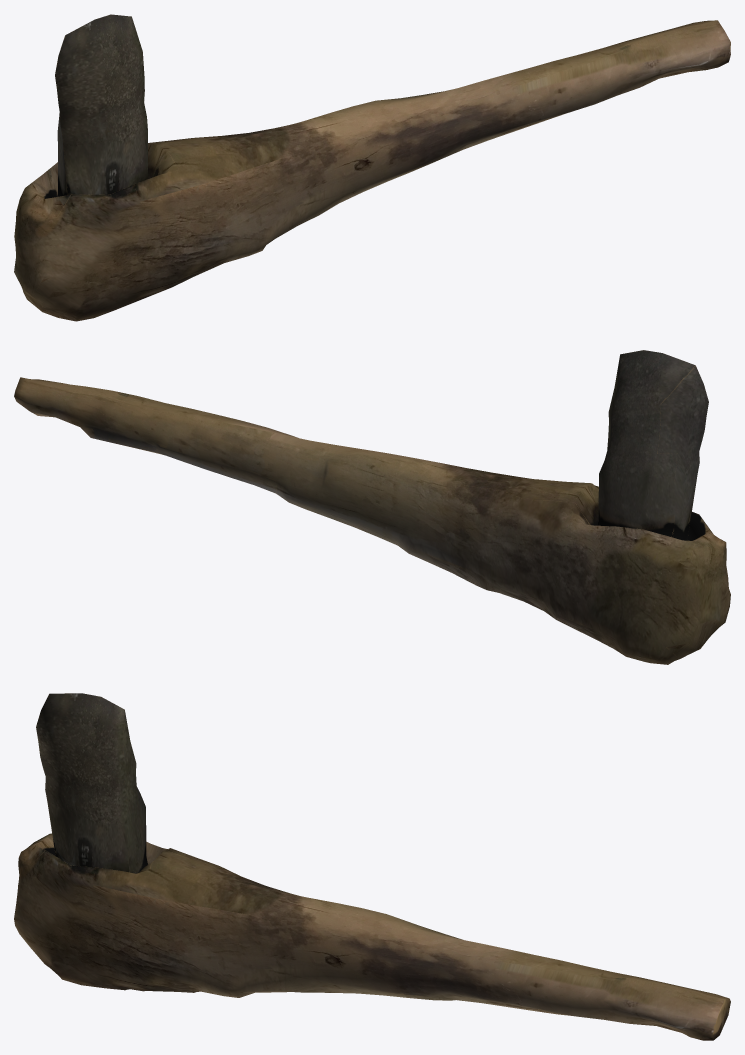
File: Hacha3_1.gltf
3 renders of one model, top to bottom at view 1: azimuth 30°, elevation 25°; view 2: azimuth 150°, elevation 25°; view 3: azimuth 330°, elevation 25°, orthographic. The views are drawn at different scales.
Visible parts, largest first — view 1: TexturedMesh; view 2: TexturedMesh; view 3: TexturedMesh.
Boxes of the visible parts, x1,y1,x2,y2 form: TexturedMesh: (14,14,730,321); TexturedMesh: (14,350,730,664); TexturedMesh: (14,693,730,1040).
Size of the model in its own units: 1.27 by 0.5149 by 0.1635.
Materials: 1 (1 with a texture image).
